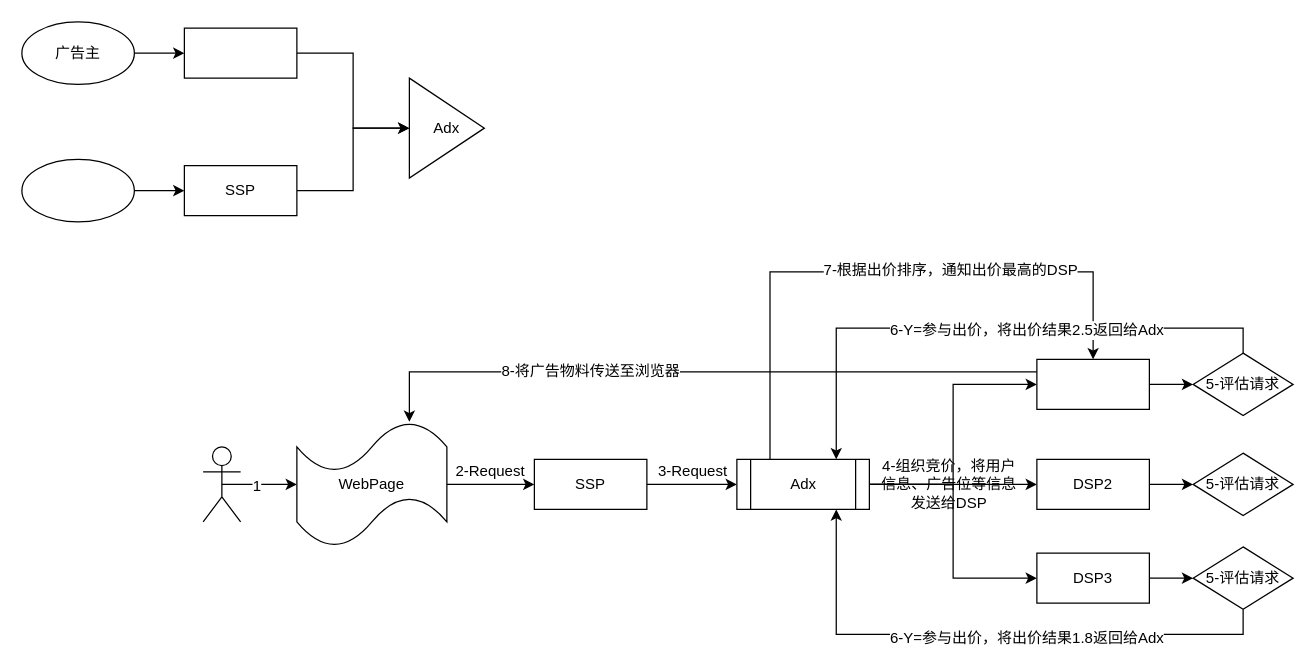
Some shapes in this 1315 by 668 pixel diagram are drawn without their labels. The shapes that lost their labels are listed below. From the top down, each one's centre as x and y in pixels, then its label:
At (240,52): "DSP".
At (77,190): "媒体".
At (1092,383): "DSP1".
At (221,484): "User".
